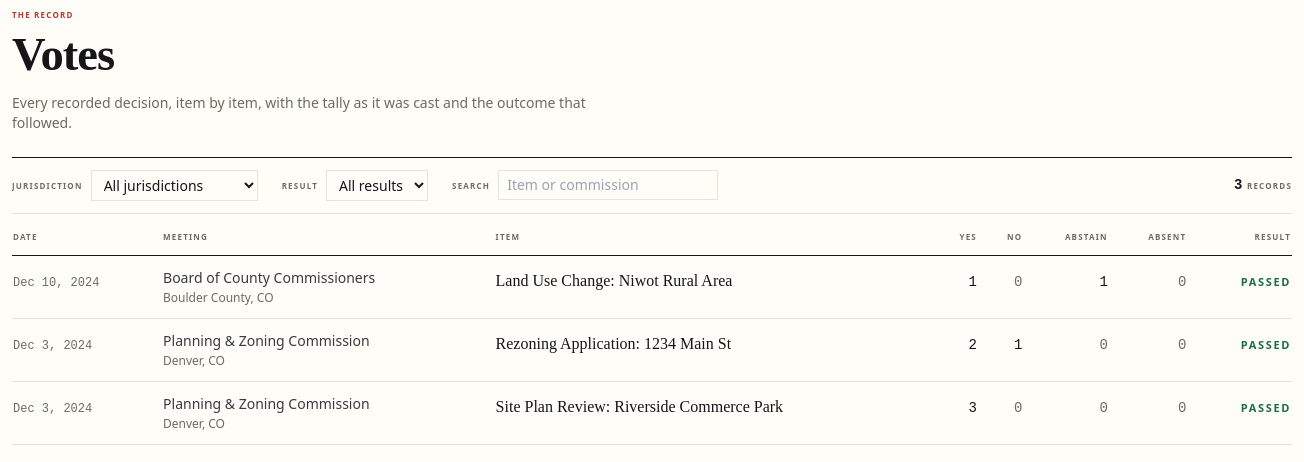
Test case: VotesPage › filters by search text and clears again
The width and height of the screenshot is (1304, 462).
Type "Riverside" into the search field labelled "Search" at (608, 185), box [498, 170, 718, 200]
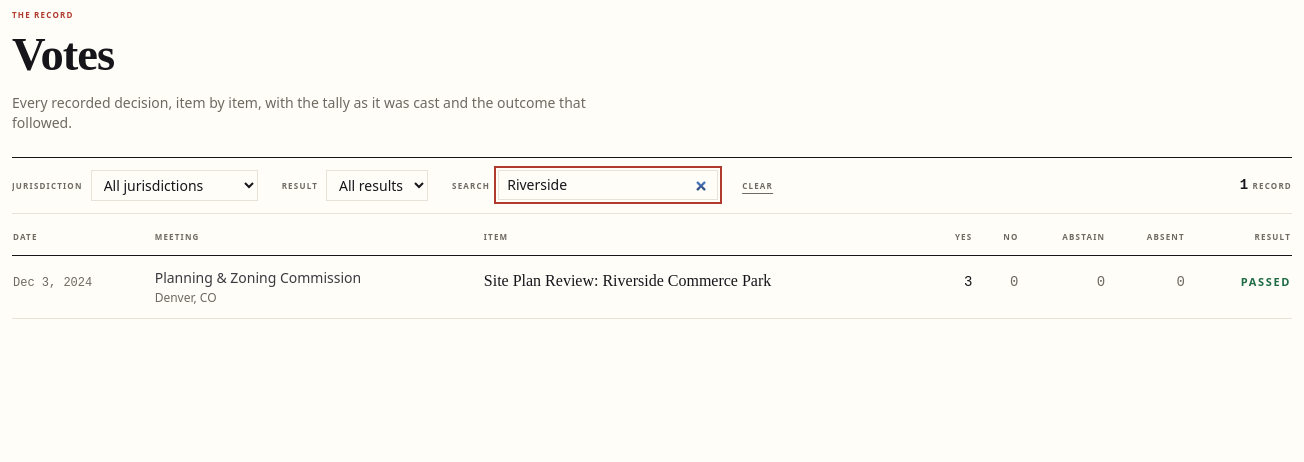
Expected: the button "Site Plan Review: Riverside Commerce Park" is shown, [484, 270, 771, 292]
Expected: the button "Rezoning Application: 1234 Main St" is gone
Click the button "Clear" at (758, 185), box [742, 180, 773, 191]
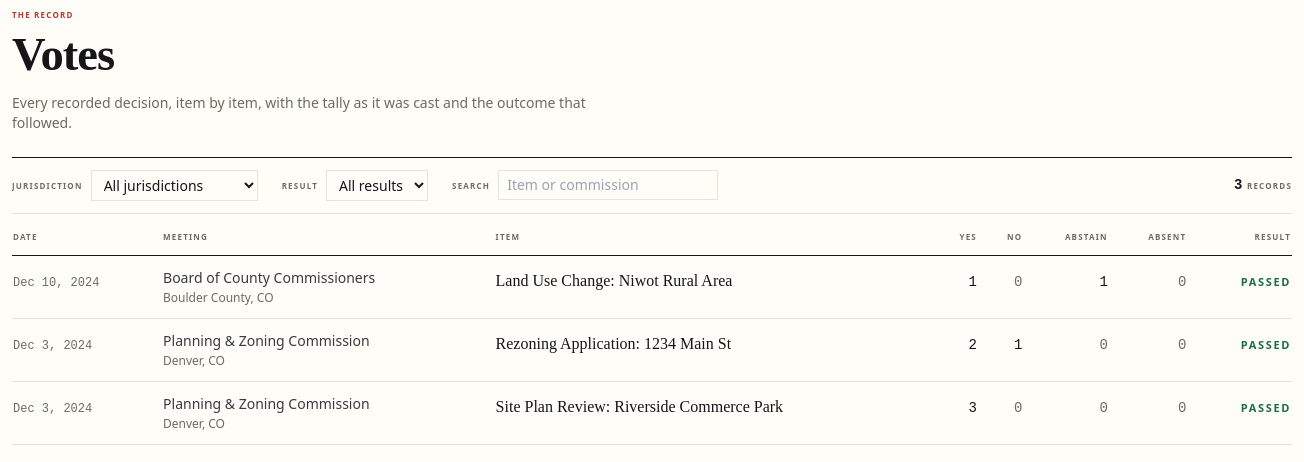
Expected: the button "Rezoning Application: 1234 Main St" is shown, [496, 333, 731, 355]
